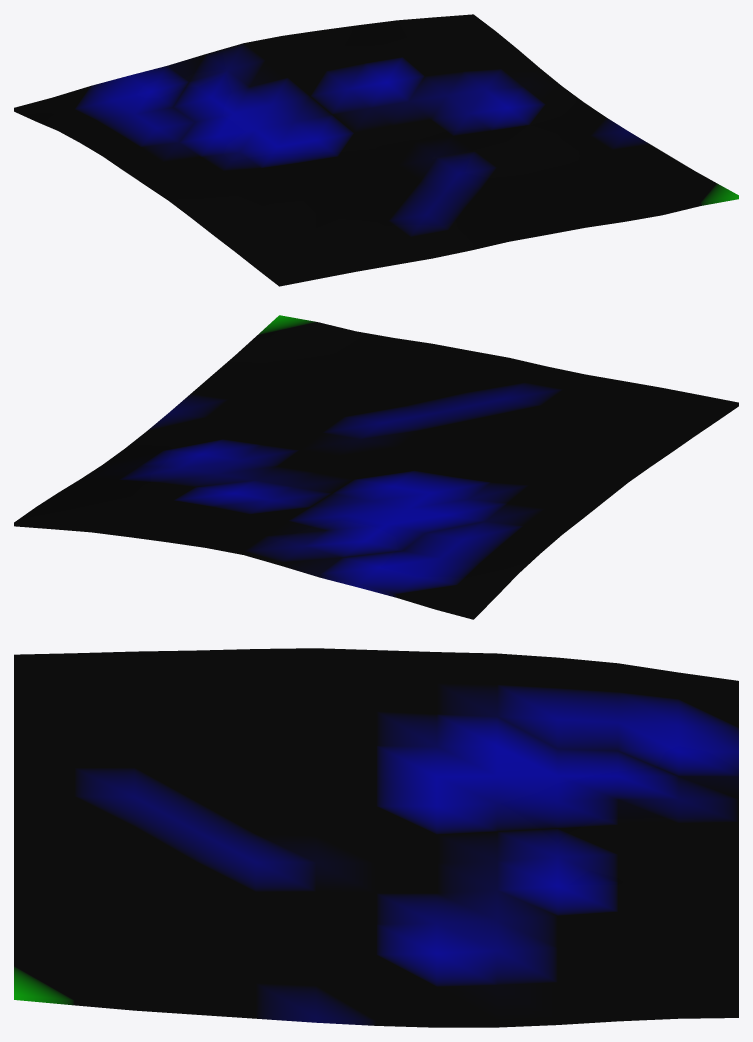
Rendered from coast_6_0.glb.
3 views of the same model, one above another, from view 1: azimuth 30°, elevation 25°; view 2: azimuth 150°, elevation 25°; view 3: azimuth 270°, elevation 25° (orthographic). The views are drawn at different scales.
Parts seen in each view (by area): view 1: terrain; view 2: terrain; view 3: terrain.
Boxes of the visible parts, box(x1,y1,x2,y2) form: terrain: box(14, 14, 738, 286); terrain: box(14, 315, 738, 619); terrain: box(14, 648, 738, 1027).
Size of the model in its own units: 192 by 21.37 by 192.
